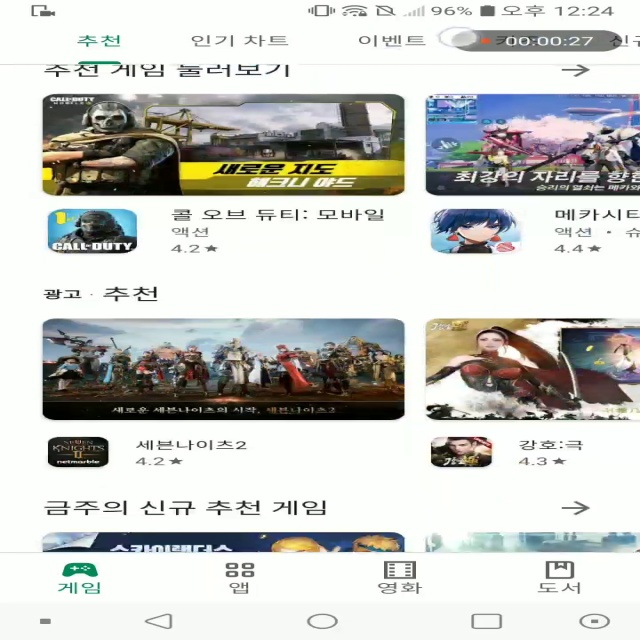Cursor: (436, 26, 480, 49)
